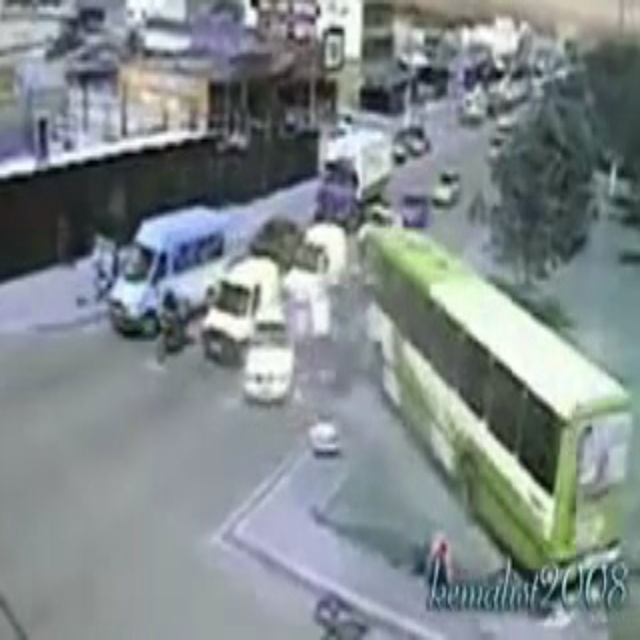acc: (291, 207, 433, 400)
